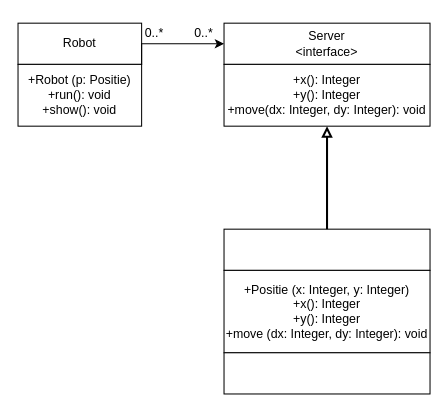
The diagram is 448 pixels wide and 412 high, and some of its shapes have lost their labels. The shapes that lost their labels are listed below. From the top down, each one's centre as x and y in pixels, then its label:
At point (326, 249): "Positie".
At point (326, 373): "-X: Integer -Y: Integer".
